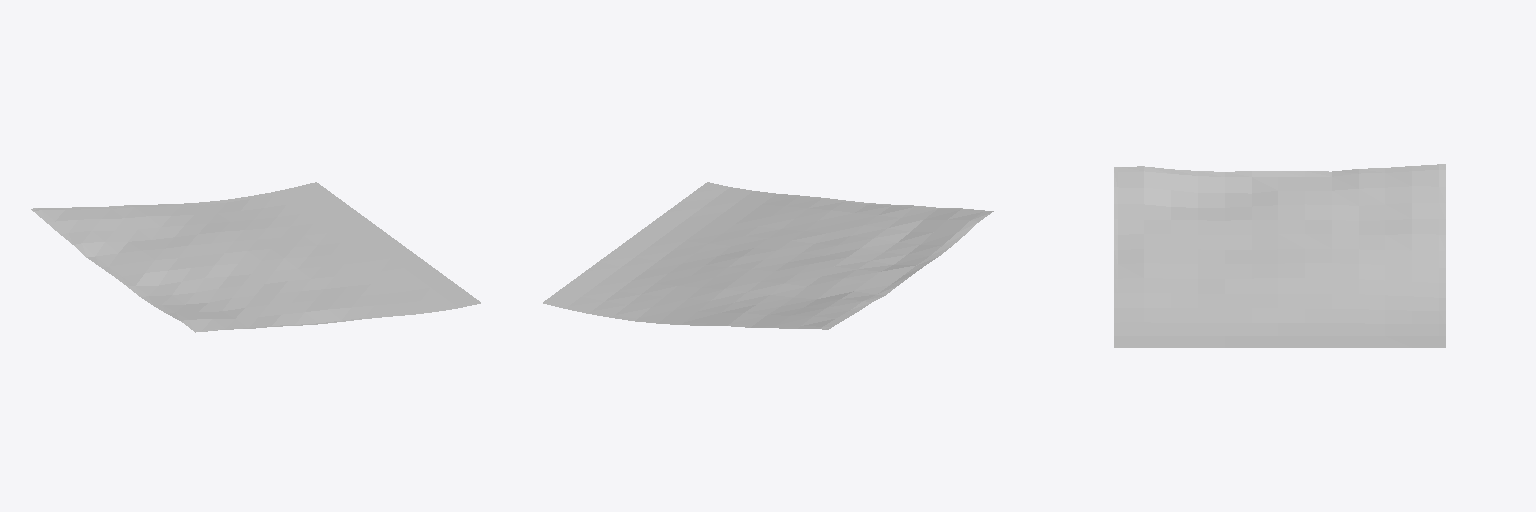
Rendered from Landscape.070.obj.
The picture shows the model from 3 angles: view 1: azimuth 30°, elevation 25°; view 2: azimuth 150°, elevation 25°; view 3: azimuth 270°, elevation 25°; orthographic projection.
Visible parts, largest first — view 1: Landscape.070; view 2: Landscape.070; view 3: Landscape.070.
Part boxes in pixels (x1,y1,x2,y2): Landscape.070: (31,182,480,332); Landscape.070: (543,182,993,329); Landscape.070: (1114,164,1445,347).
Size of the model in its own units: 32 by 4.61 by 32.